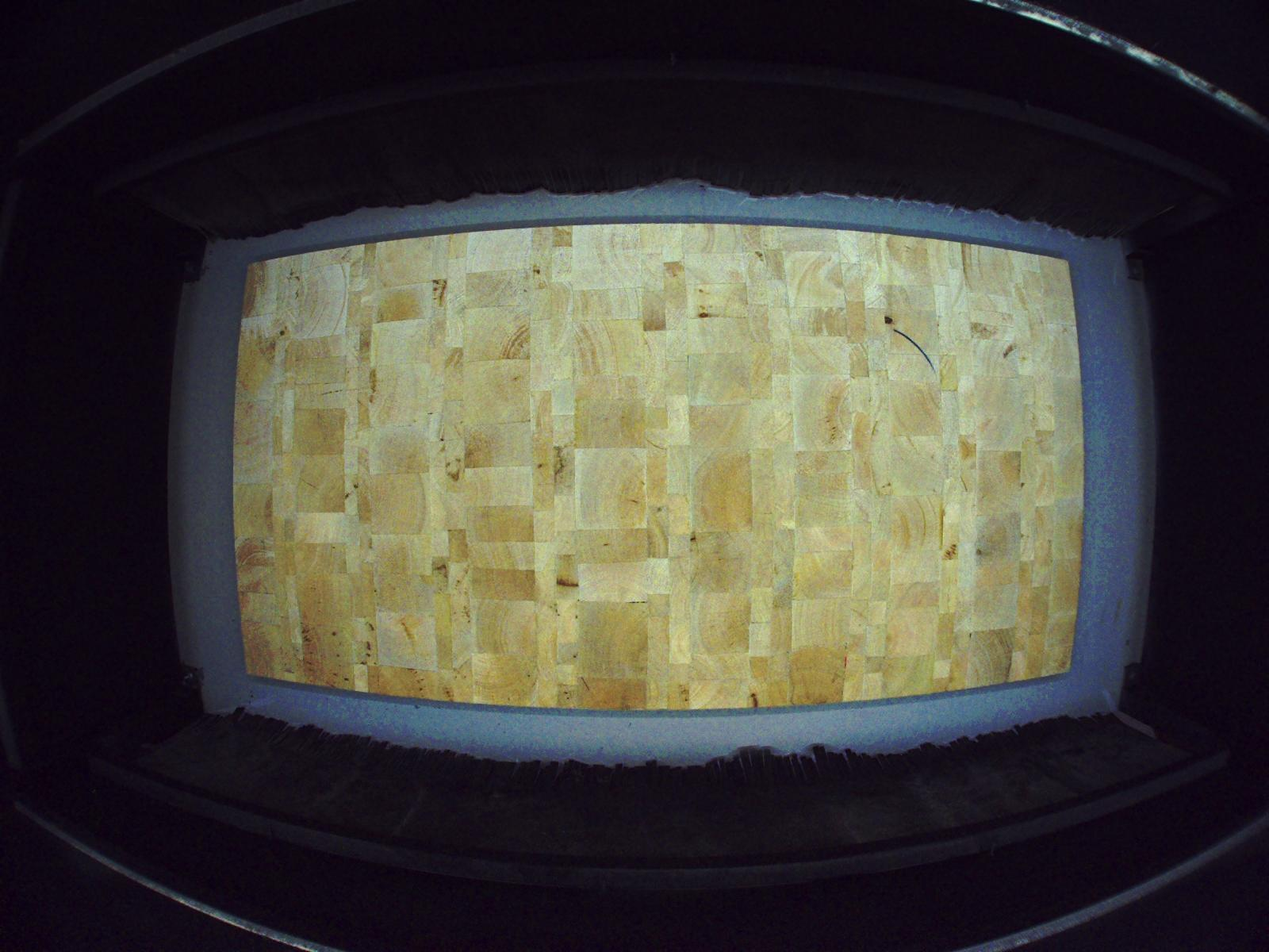nudillo: (882, 313, 896, 327)
